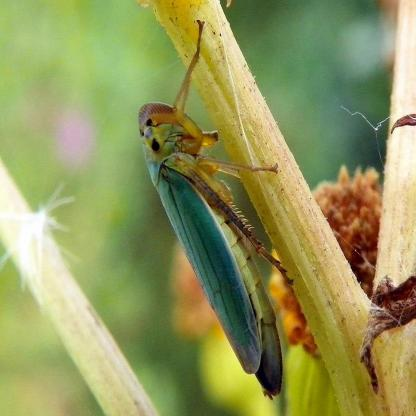Green-Leafhopper: (134, 22, 292, 398)
